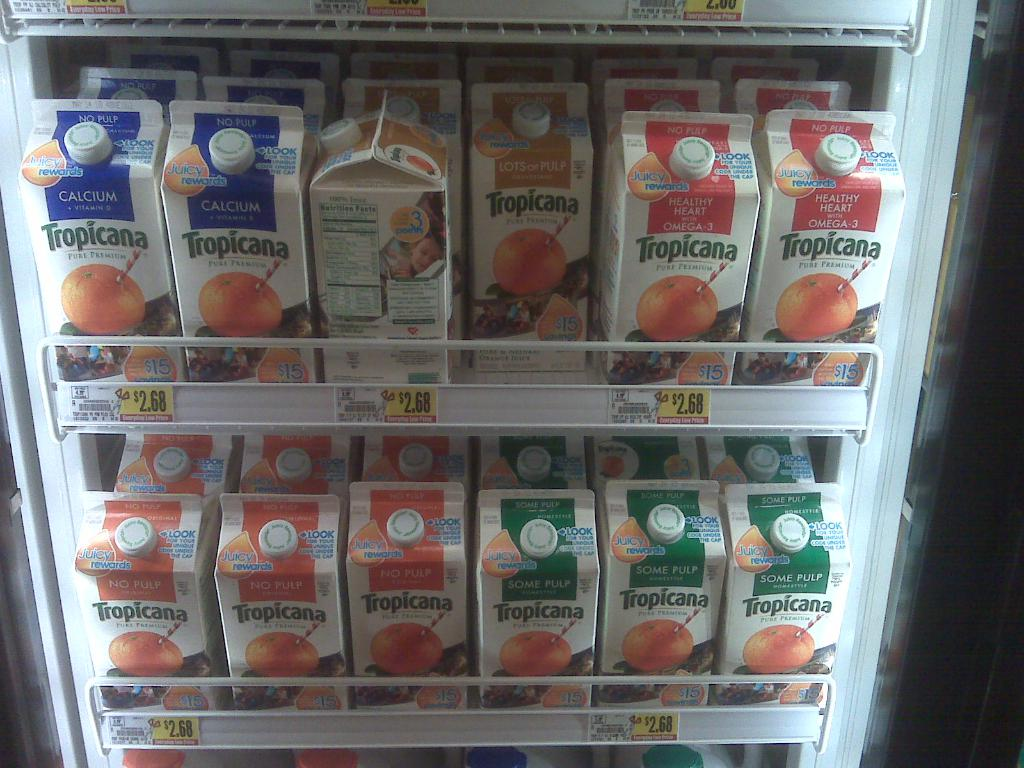refrigerator door: (17, 82, 871, 768)
